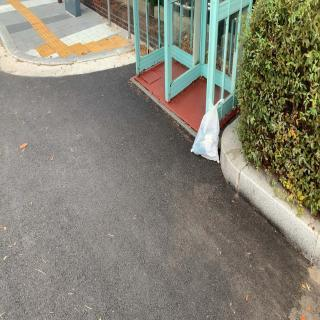Garbage: (187, 91, 226, 166)
